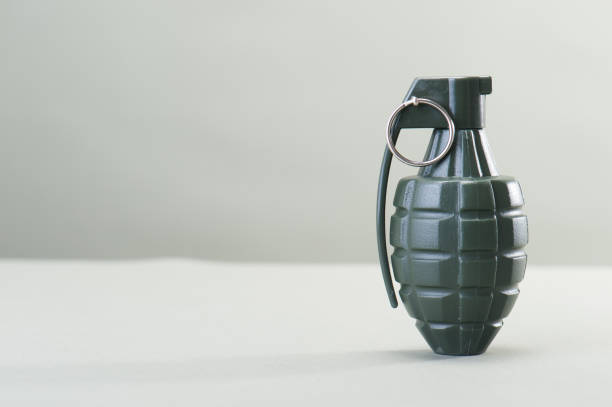e1: (378, 71, 533, 356)
